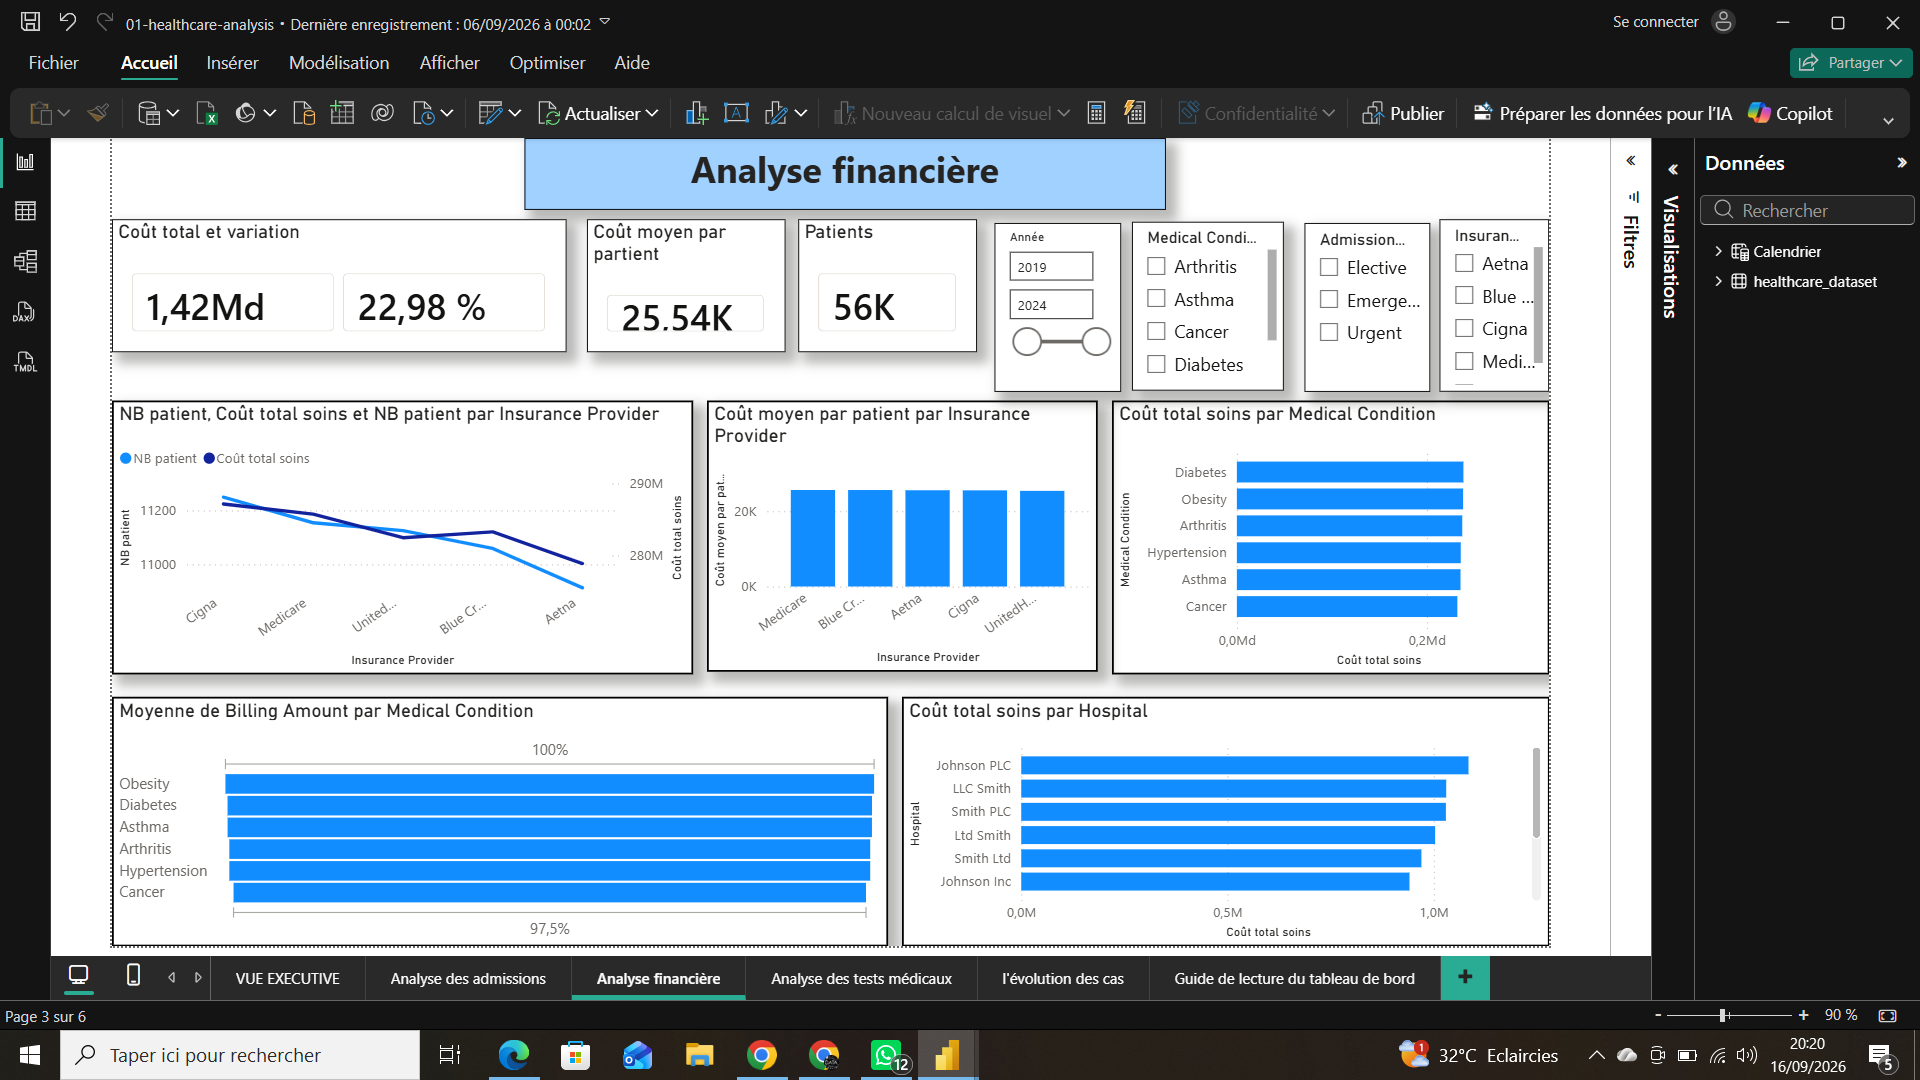

Layout of this report page (visuals, bound fields, positions):
{"tool":"powerbi","page":{"name":"Analyse financière","canvas":[1280,720],"ordinal":2},"visuals":[{"type":"textbox","box":[367.4,0,570.9,64],"z":0},{"type":"lineChart","fields":{"Category":["healthcare_dataset.Insurance Provider"],"Y2":["healthcare_dataset.Coût total soins"],"Y":["healthcare_dataset.NB patient"]},"box":[0,233.7,517.4,244.2],"z":1000},{"type":"clusteredBarChart","fields":{"Category":["healthcare_dataset.Medical Condition"],"Y":["healthcare_dataset.Coût total soins"]},"box":[890.7,233.7,389.5,244.2],"z":2000},{"type":"funnel","fields":{"Category":["healthcare_dataset.Medical Condition"],"Y":["Avg(healthcare_dataset.Billing Amount)"]},"box":[415.1,497.7,418.6,222.1],"z":3000},{"type":"clusteredColumnChart","fields":{"Y":["healthcare_dataset.Coût moyen par patient"],"Category":["healthcare_dataset.Insurance Provider"]},"box":[530.2,233.7,347.7,241.9],"z":4000},{"type":"barChart","fields":{"Category":["healthcare_dataset.Hospital"],"Y":["healthcare_dataset.Coût total soins"]},"box":[843,497.7,437.2,222.1],"z":5000},{"type":"cardVisual","title":"Coût total et variation","fields":{"Data":["healthcare_dataset.Coût total soins","healthcare_dataset.Variation coût %"]},"box":[0,72.1,404.7,118.6],"z":6000},{"type":"cardVisual","title":"Coût moyen par partient","fields":{"Data":["healthcare_dataset.Coût moyen par patient"]},"box":[423.3,72.1,176.7,118.6],"z":7000},{"type":"cardVisual","title":"Patients","fields":{"Data":["healthcare_dataset.NB patient"]},"box":[611.6,72.1,159.3,118.6],"z":8000},{"type":"slicer","fields":{"Values":["Calendrier.Année"]},"box":[786,75.6,112.8,150],"z":9000},{"type":"slicer","fields":{"Values":["healthcare_dataset.Medical Condition"]},"box":[908.1,74.4,134.9,150],"z":10000},{"type":"slicer","fields":{"Values":["healthcare_dataset.Admission Type"]},"box":[1061.6,75.6,111.6,150],"z":11000},{"type":"slicer","fields":{"Values":["healthcare_dataset.Insurance Provider"]},"box":[1182.6,72.1,97.7,153.5],"z":12000},{"type":"textbox","box":[0,497.7,404.7,222.1],"z":13000}]}

Visuals, with their boxes on the page's 1280x720 design canvas (x1, y1, x2, y2). These are canvas units, not pixel positions in the 1920x1080 screenshot, which may show the page scaled, cropped or inside an application window:
textbox: [367, 0, 938, 64]
lineChart - healthcare_dataset.Insurance Provider x healthcare_dataset.Coût total soins: [0, 234, 517, 478]
clusteredBarChart - healthcare_dataset.Medical Condition x healthcare_dataset.Coût total soins: [891, 234, 1280, 478]
funnel - healthcare_dataset.Medical Condition x Avg(healthcare_dataset.Billing Amount): [415, 498, 834, 720]
clusteredColumnChart - healthcare_dataset.Coût moyen par patient x healthcare_dataset.Insurance Provider: [530, 234, 878, 476]
barChart - healthcare_dataset.Hospital x healthcare_dataset.Coût total soins: [843, 498, 1280, 720]
"Coût total et variation" cardVisual: [0, 72, 405, 191]
"Coût moyen par partient" cardVisual: [423, 72, 600, 191]
"Patients" cardVisual: [612, 72, 771, 191]
slicer - Calendrier.Année: [786, 76, 899, 226]
slicer - healthcare_dataset.Medical Condition: [908, 74, 1043, 224]
slicer - healthcare_dataset.Admission Type: [1062, 76, 1173, 226]
slicer - healthcare_dataset.Insurance Provider: [1183, 72, 1280, 226]
textbox: [0, 498, 405, 720]
